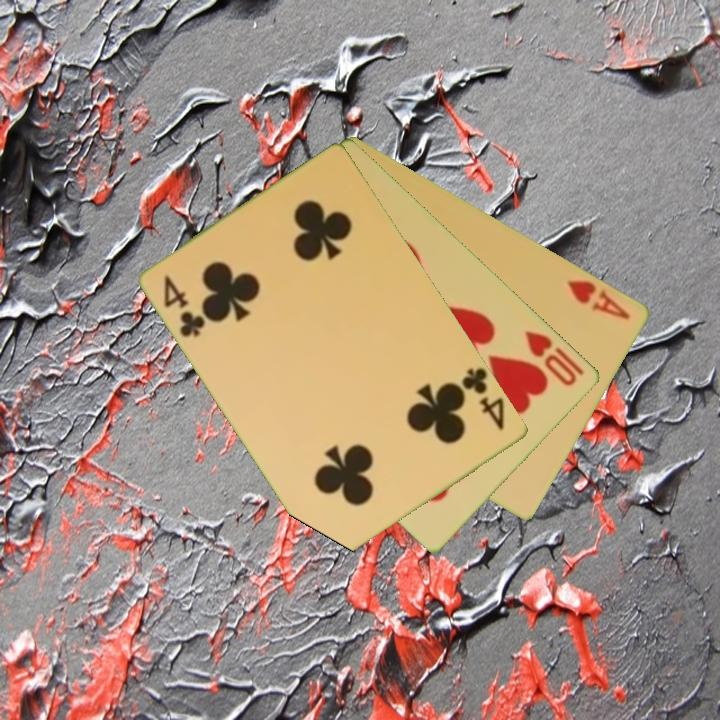10h: (522, 326, 581, 389)
4c: (458, 363, 508, 433), (160, 271, 209, 340)
Ah: (564, 276, 634, 322)
